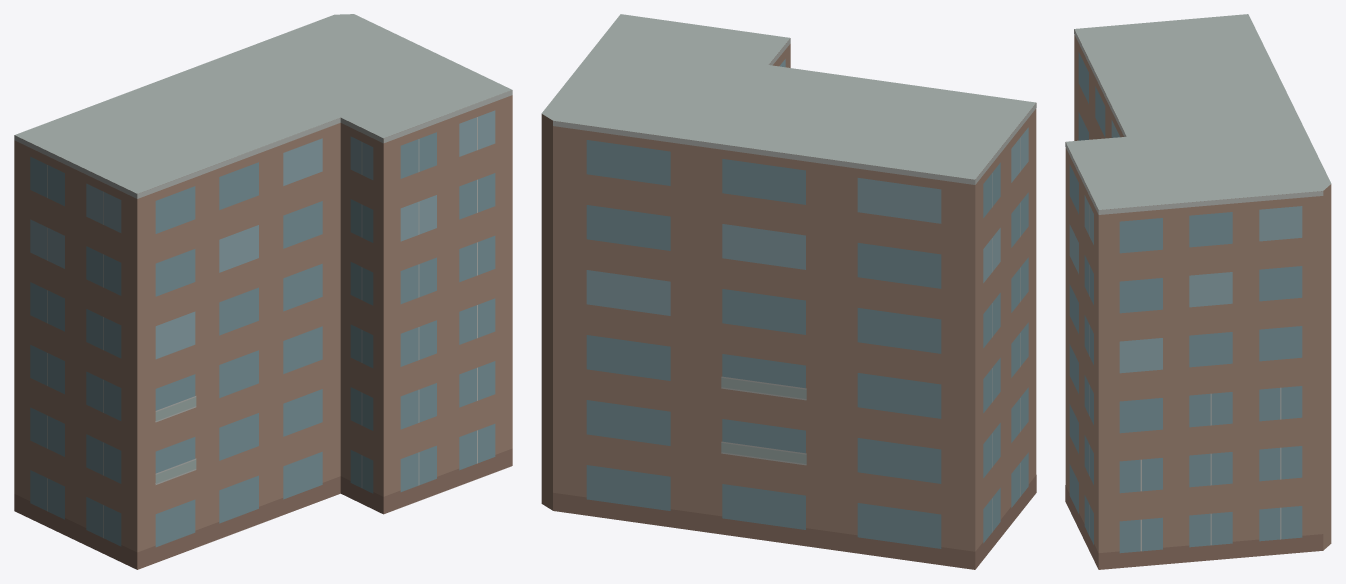
Rendered from survey-upis-32630034.glb.
3 renders of one model, left to right at view 1: azimuth 30°, elevation 25°; view 2: azimuth 150°, elevation 25°; view 3: azimuth 270°, elevation 25°, orthographic. The views are drawn at different scales.
Parts seen in each view (by area): view 1: survey-upis-32630034.tmp; view 2: survey-upis-32630034.tmp; view 3: survey-upis-32630034.tmp.
Part boxes in pixels (x1=…): survey-upis-32630034.tmp: x1=14, y1=14, x2=512, y2=569; survey-upis-32630034.tmp: x1=541, y1=14, x2=1036, y2=569; survey-upis-32630034.tmp: x1=1065, y1=14, x2=1331, y2=569.
Size of the model in its own units: 20.81 by 17.8 by 11.94.
